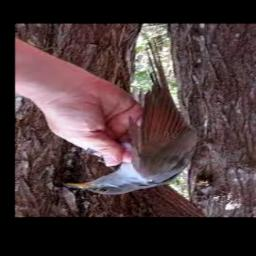Cuckoo: (64, 39, 197, 195)
